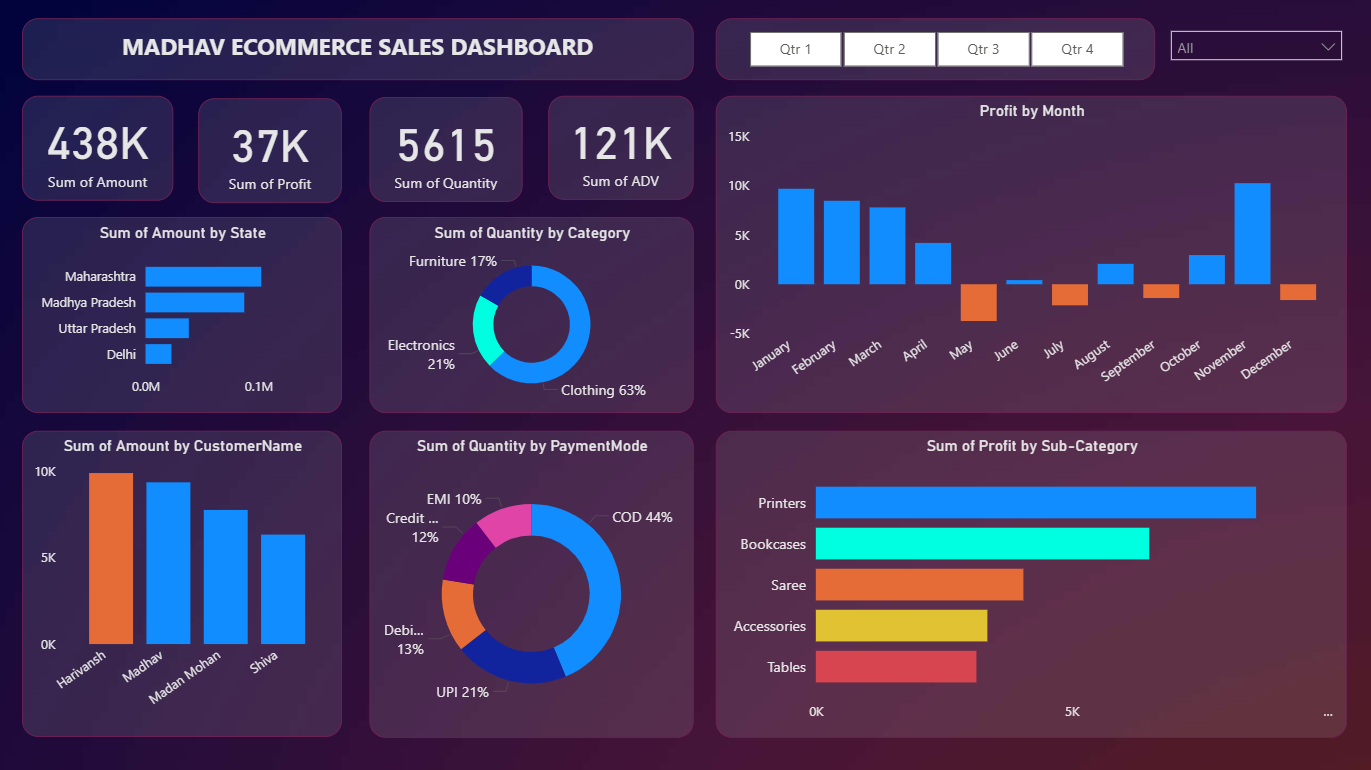

The page's visual inventory and layout, read from the dashboard file:
{"tool":"powerbi","page":{"name":"Page 1","canvas":[1280,720],"ordinal":0},"visuals":[{"type":"columnChart","title":"Profit by Month","fields":{"Y":["Details.Profit"],"Category":["Orders.Order Date.Variation.Date Hierarchy.Month"]},"box":[668.4,91.7,587.5,295.6],"z":0},{"type":"barChart","fields":{"Category":["Details.Sub-Category"],"Y":["Details.Profit"]},"box":[668.4,403,587.5,285.9],"z":1000},{"type":"donutChart","fields":{"Category":["Details.Category"],"Y":["Details.Quantity"]},"box":[346.2,205.1,301.6,182.2],"z":2000},{"type":"donutChart","fields":{"Category":["Details.PaymentMode"],"Y":["Details.Quantity"]},"box":[346.2,403,301.6,285.9],"z":3000},{"type":"card","fields":{"Values":["Details.Amount"]},"box":[22.9,91.7,141.2,97.7],"z":4000},{"type":"card","fields":{"Values":["Details.Profit"]},"box":[187,94.1,133.9,97.7],"z":5000},{"type":"card","fields":{"Values":["Details.Quantity"]},"box":[346.2,92.9,142.4,97.7],"z":6000},{"type":"card","fields":{"Values":["Details.ADV"]},"box":[512.7,91.7,135.1,96.5],"z":7000},{"type":"barChart","fields":{"Category":["Orders.State"],"Y":["Details.Amount"]},"box":[22.9,205.1,298,182.2],"z":8000},{"type":"columnChart","fields":{"Category":["Orders.CustomerName"],"Y":["Details.Amount"]},"box":[22.9,403,298,284.7],"z":9000},{"type":"textbox","box":[22.9,19.3,624.9,57.9],"z":10000},{"type":"slicer","fields":{"Values":["Orders.Order Date.Variation.Date Hierarchy.Quarter"]},"box":[668.4,19.3,409,57.9],"z":11000},{"type":"slicer","fields":{"Values":["Orders.State"]},"box":[1087,26.5,168.9,43.4],"z":12000}]}

Visuals, with their boxes in screenshot pixels (x1, y1, x2, y2), scaled from the page's 1280x720 canvas onto the 1371x770 screenshot:
"Profit by Month" columnChart: Rect(716, 98, 1345, 414)
barChart - Details.Sub-Category x Details.Profit: Rect(716, 431, 1345, 737)
donutChart - Details.Category x Details.Quantity: Rect(371, 219, 694, 414)
donutChart - Details.PaymentMode x Details.Quantity: Rect(371, 431, 694, 737)
card - Details.Amount: Rect(25, 98, 176, 203)
card - Details.Profit: Rect(200, 101, 344, 205)
card - Details.Quantity: Rect(371, 99, 523, 204)
card - Details.ADV: Rect(549, 98, 694, 201)
barChart - Orders.State x Details.Amount: Rect(25, 219, 344, 414)
columnChart - Orders.CustomerName x Details.Amount: Rect(25, 431, 344, 735)
textbox: Rect(25, 21, 694, 83)
slicer - Orders.Order Date.Variation.Date Hierarchy.Quarter: Rect(716, 21, 1154, 83)
slicer - Orders.State: Rect(1164, 28, 1345, 75)
